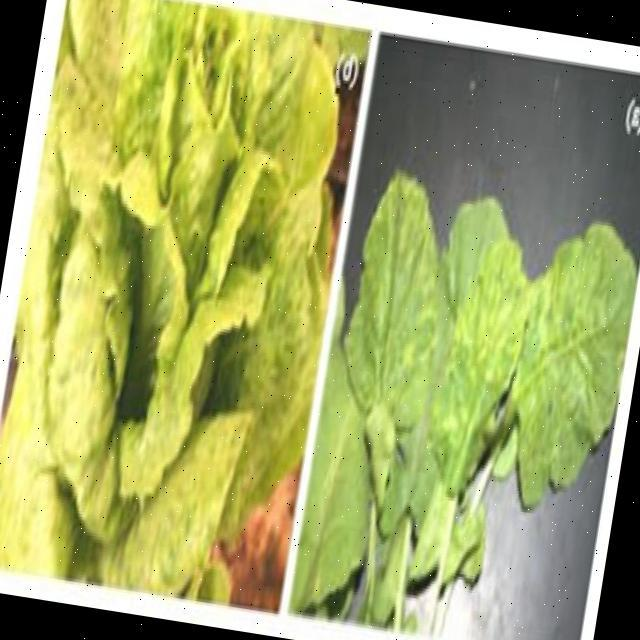Lettuce Mosaic Virus: (25, 78, 300, 515), (298, 221, 530, 616)
